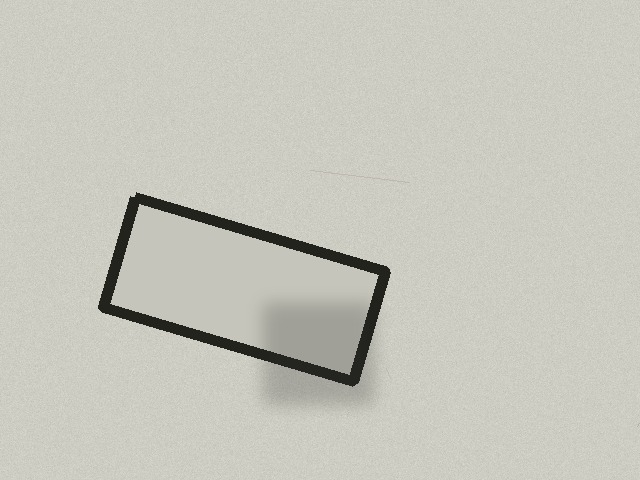parking_area: (103, 197, 385, 381)
